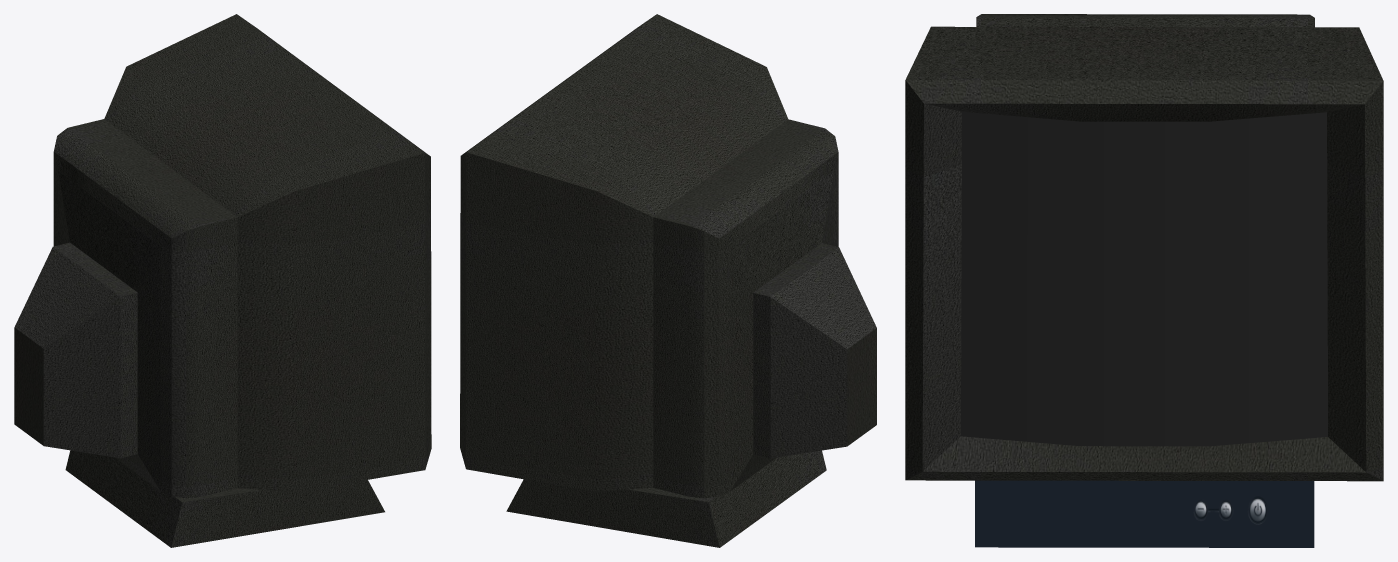
File: lower monitor.glb
3 renders of one model, left to right at view 1: azimuth 30°, elevation 25°; view 2: azimuth 150°, elevation 25°; view 3: azimuth 270°, elevation 25°, orthographic. The views are drawn at different scales.
Visible parts, largest first — view 1: pCube8; view 2: pCube8; view 3: pCube8.
Part boxes in pixels (left/top/right/bottom): pCube8: left=14, top=14, right=431, bottom=547; pCube8: left=460, top=14, right=876, bottom=547; pCube8: left=905, top=14, right=1383, bottom=547.
Size of the model in its own units: 0.5241 by 0.5983 by 0.546.
3 materials, 2 textured.
